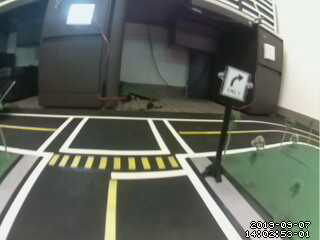Right_only_sign: (219, 63, 245, 104)
